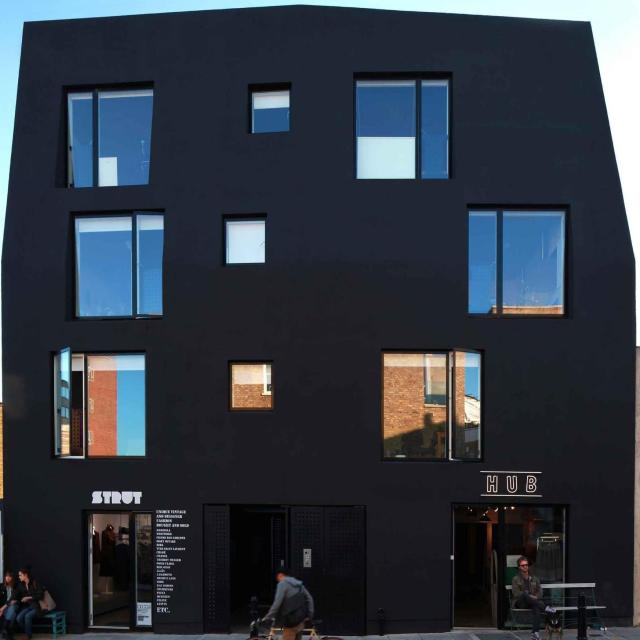door: (93, 514, 157, 630), (451, 502, 507, 630), (226, 506, 286, 623)
window: (384, 354, 481, 462), (467, 211, 563, 317), (55, 354, 143, 459), (76, 219, 164, 320), (68, 86, 153, 189), (358, 85, 450, 178), (508, 506, 568, 628), (231, 366, 274, 410), (227, 223, 264, 267), (253, 95, 287, 135)
